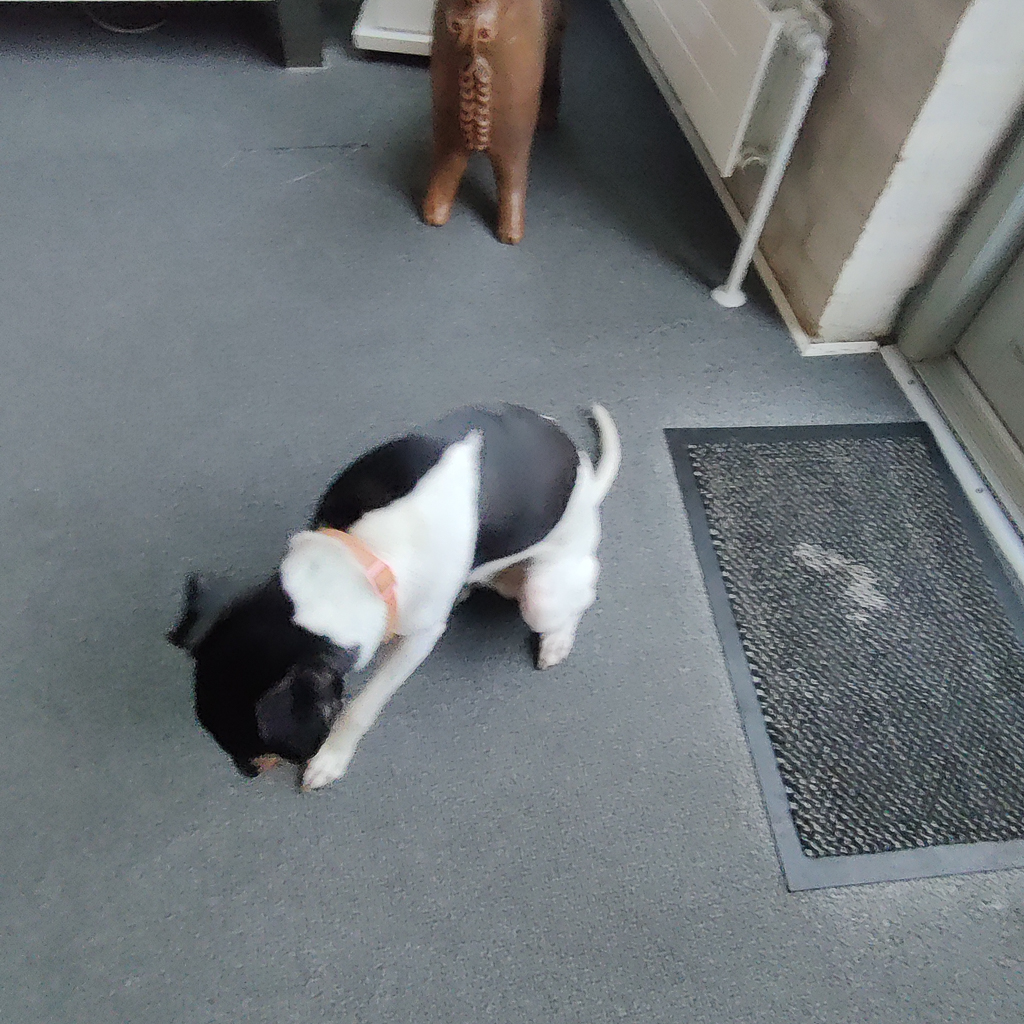Cattle: (402, 0, 580, 251)
Dog: (137, 377, 656, 807)
